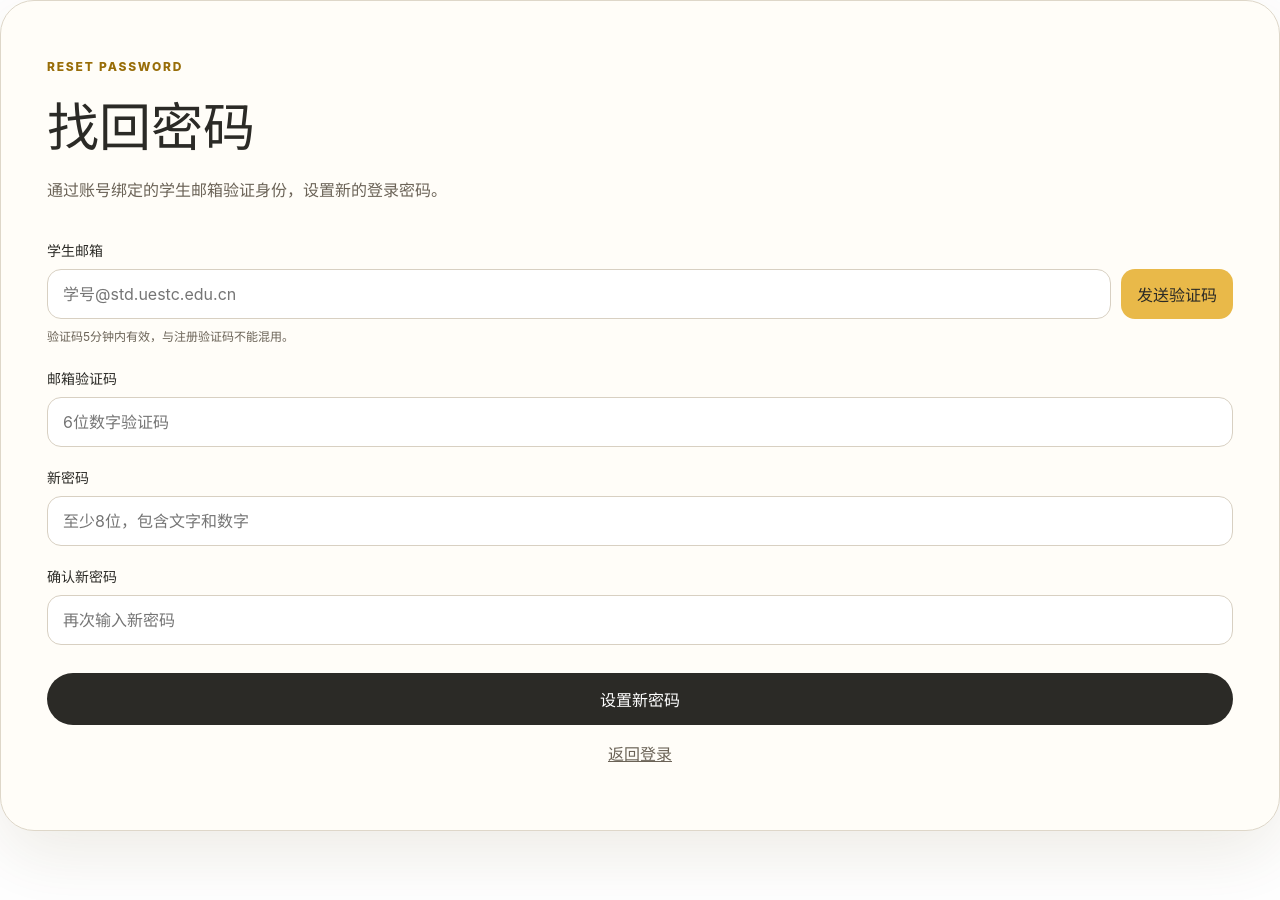
Test: password reset form › submits the dedicated payload and removes old credentials after success
Type "Student@STD.UESTC.EDU.CN" into the field labelled "学生邮箱".
click(579, 294); type("Student@STD.UESTC.EDU.CN")  # box [47,269,1111,319]
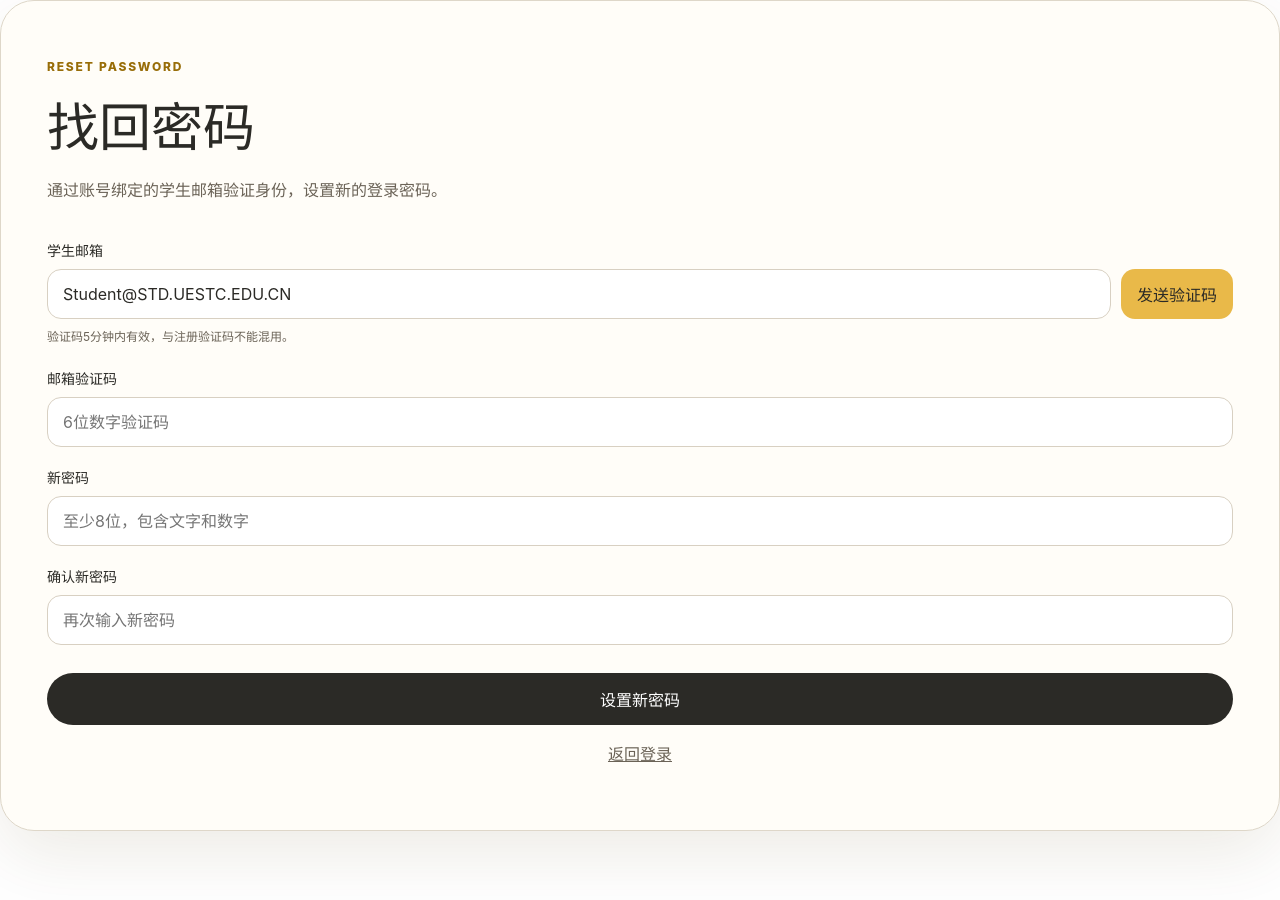
Type "012345" into the field labelled "邮箱验证码".
click(640, 422); type("012345")  # box [47,397,1233,447]
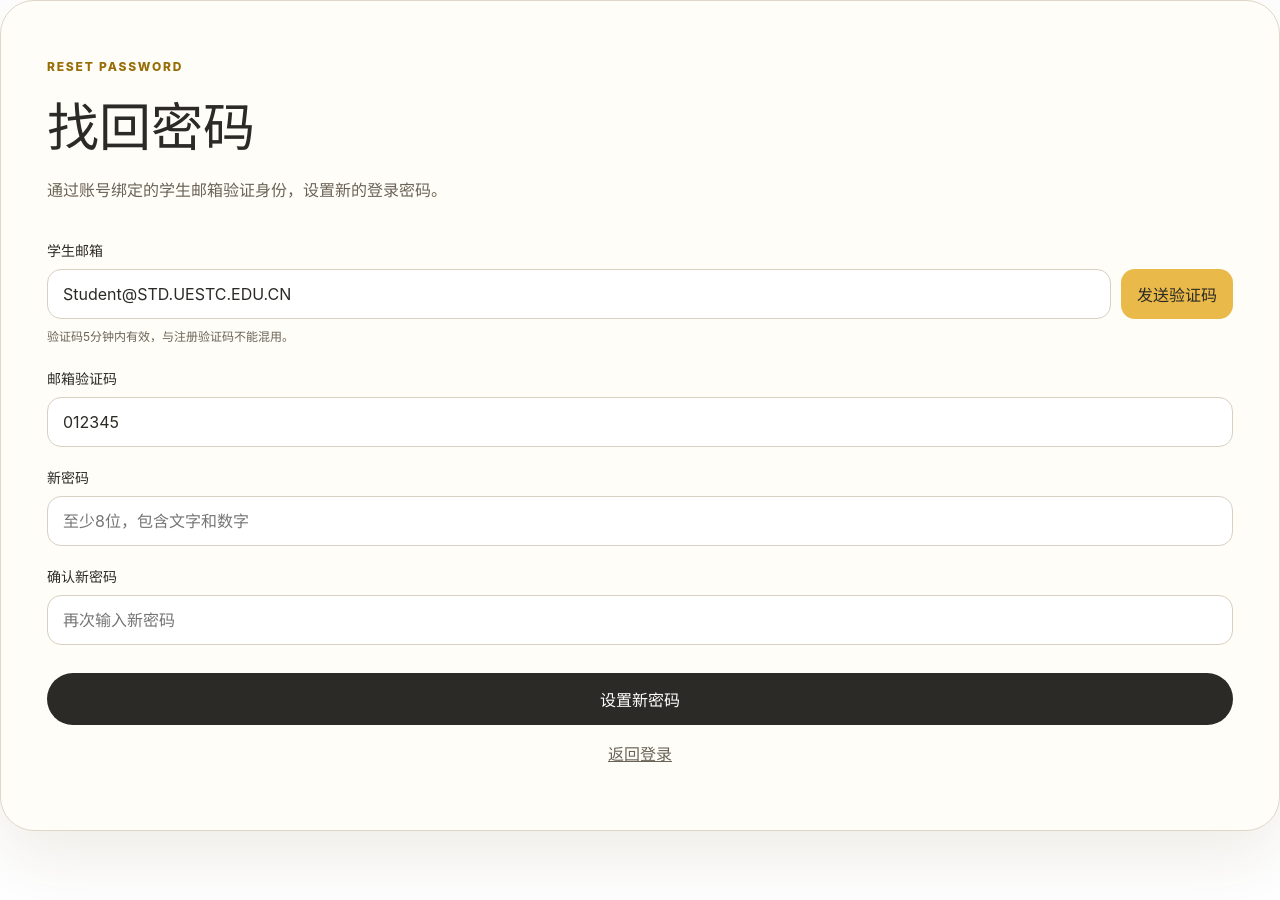
Type " NewPassword2026 " into the password field with id "reset-password".
click(640, 521); type(" NewPassword2026 ")  # box [47,496,1233,546]
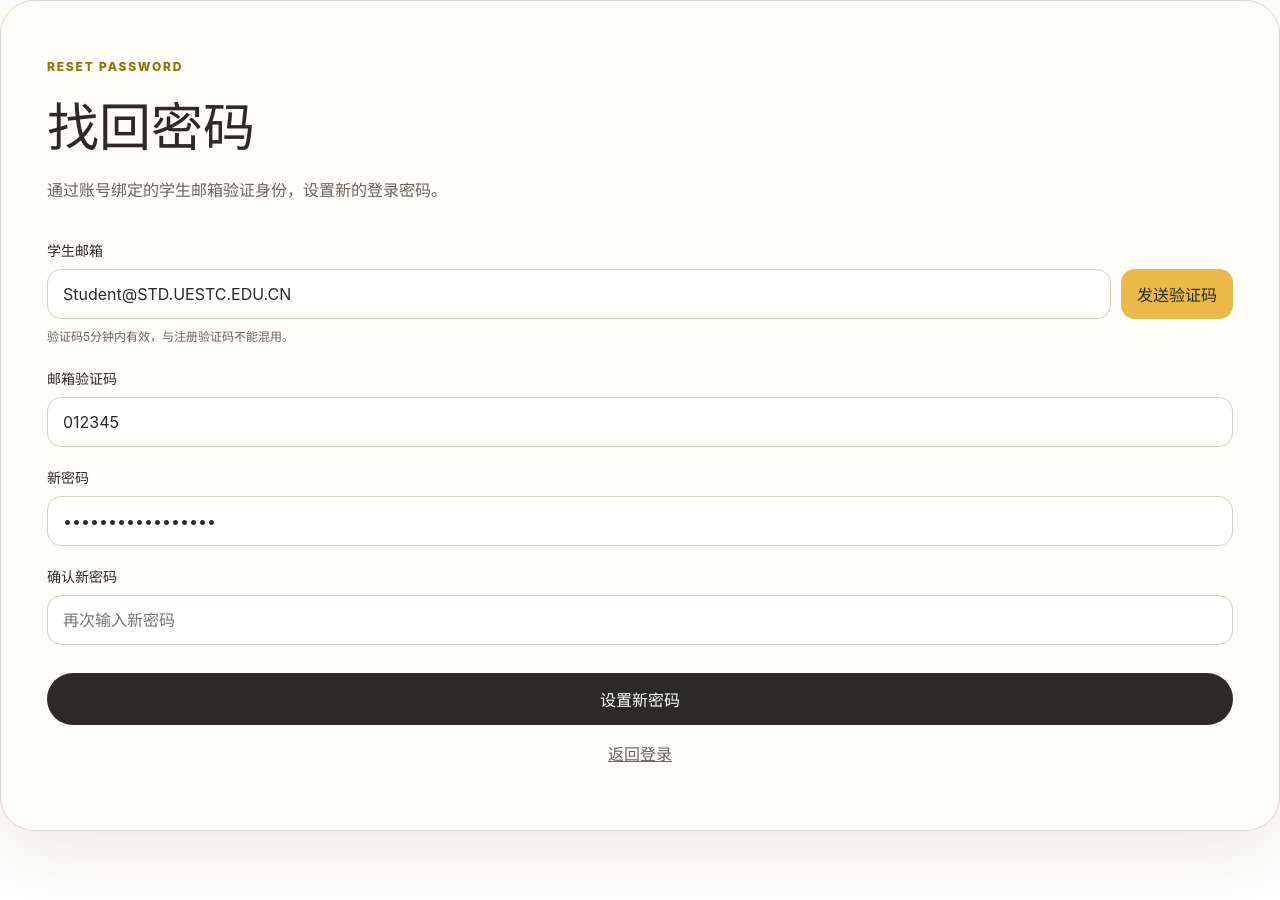
Type " NewPassword2026 " into the password field with id "reset-confirm-password".
click(640, 620); type(" NewPassword2026 ")  # box [47,595,1233,645]
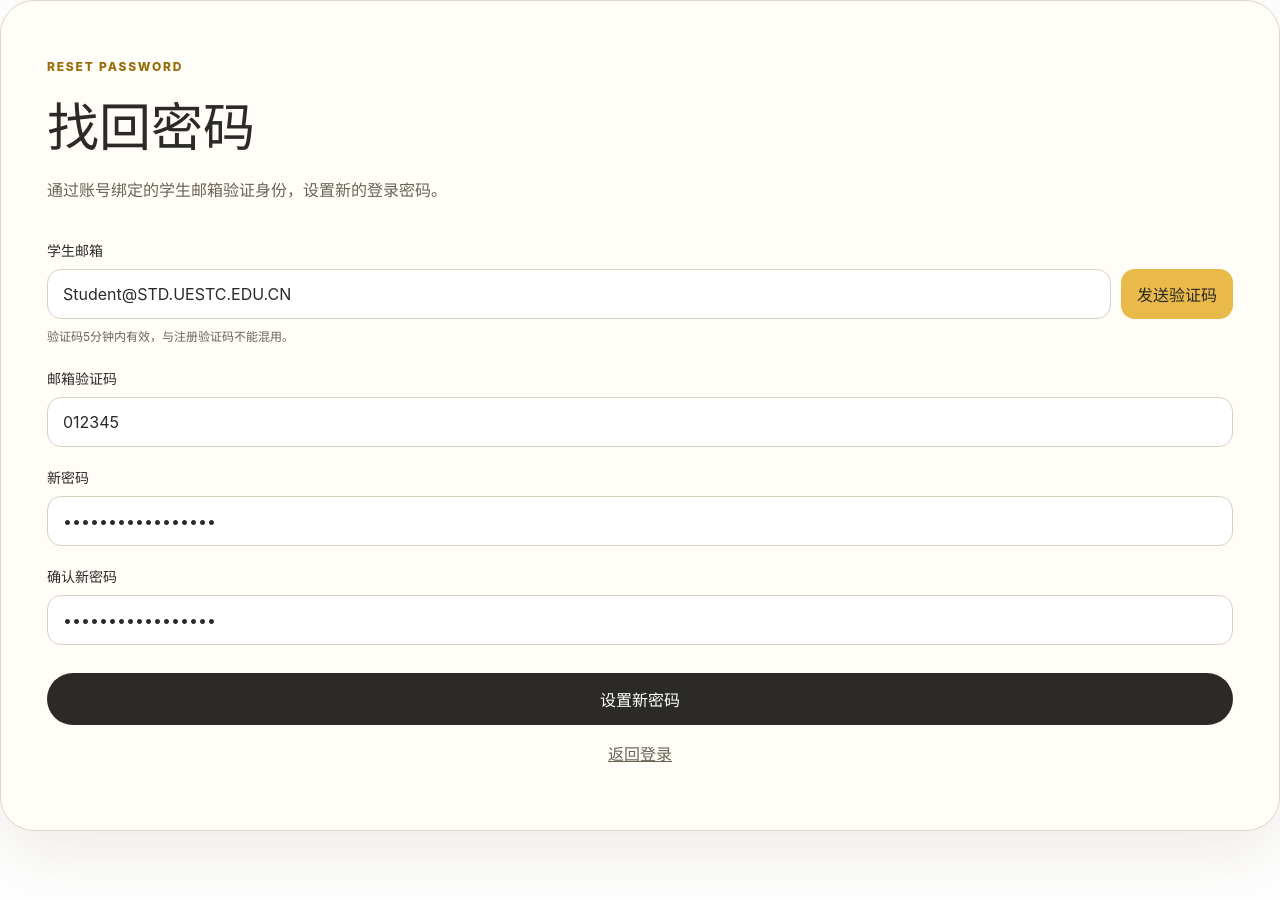
Submit the form
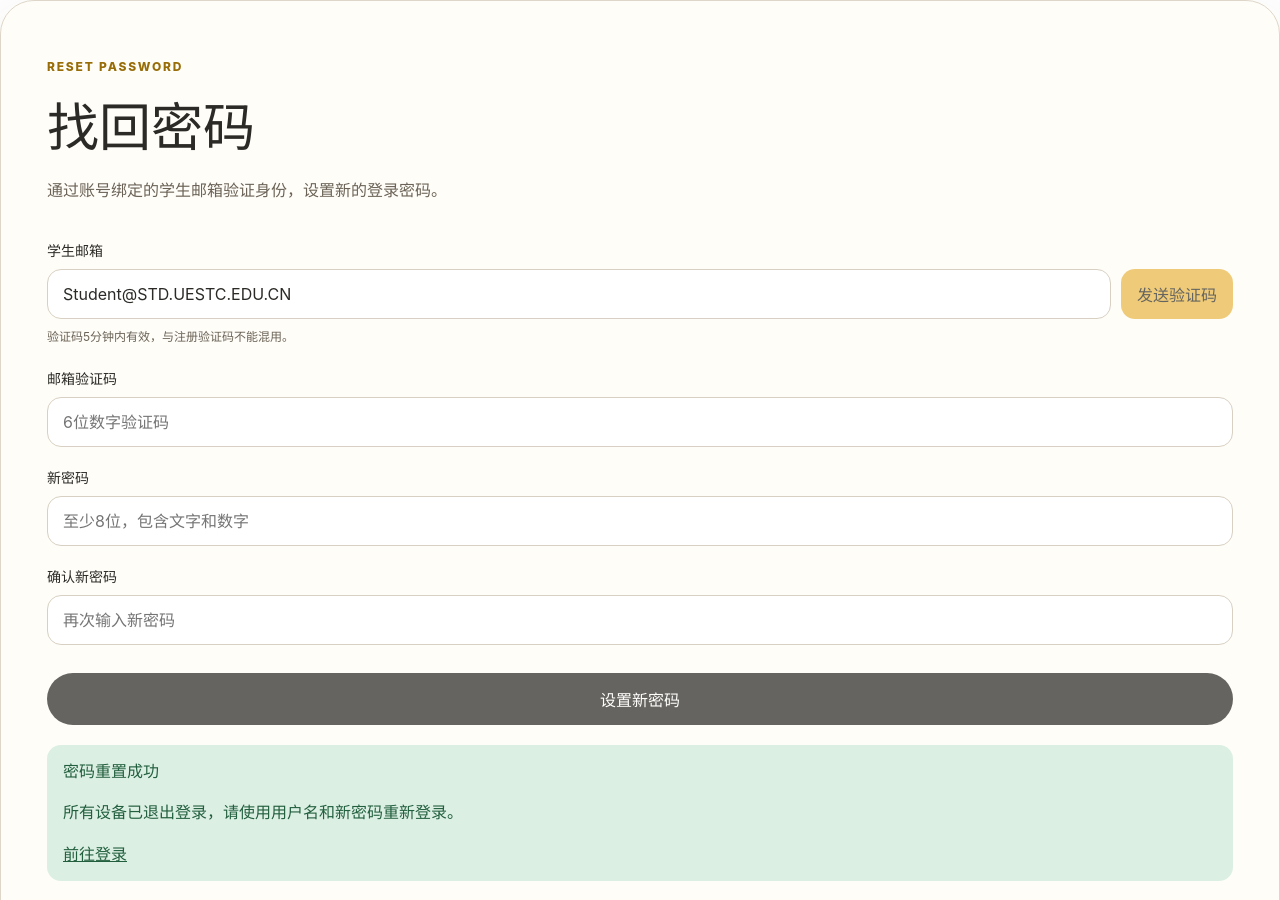
Now the text "密码重置成功" is shown, box [63,761,159,781]
Now the password field with id "reset-password" is empty, box [47,496,1233,546]
Now the password field with id "reset-confirm-password" is empty, box [47,595,1233,645]
